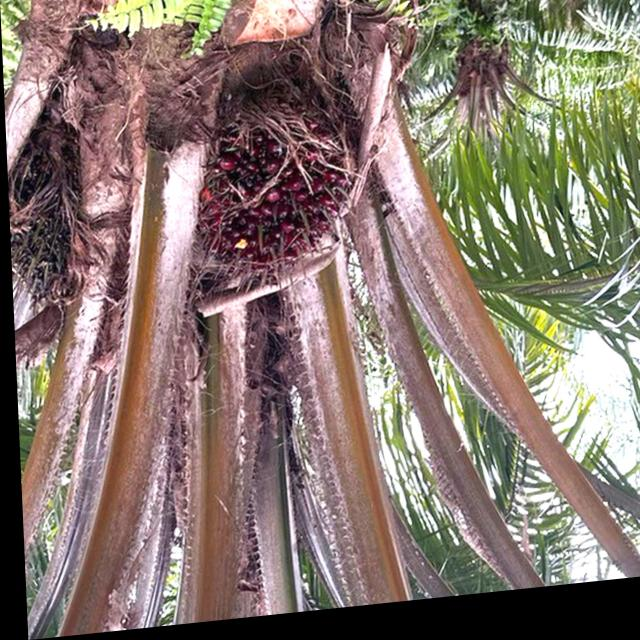ripe: (194, 131, 361, 305), (5, 142, 88, 313)
